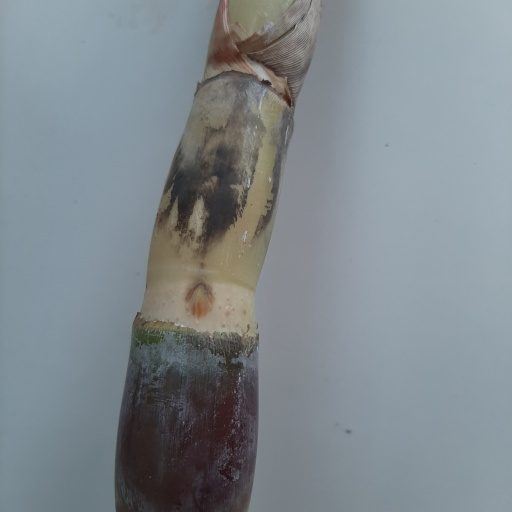Bud: (184, 283, 213, 318)
